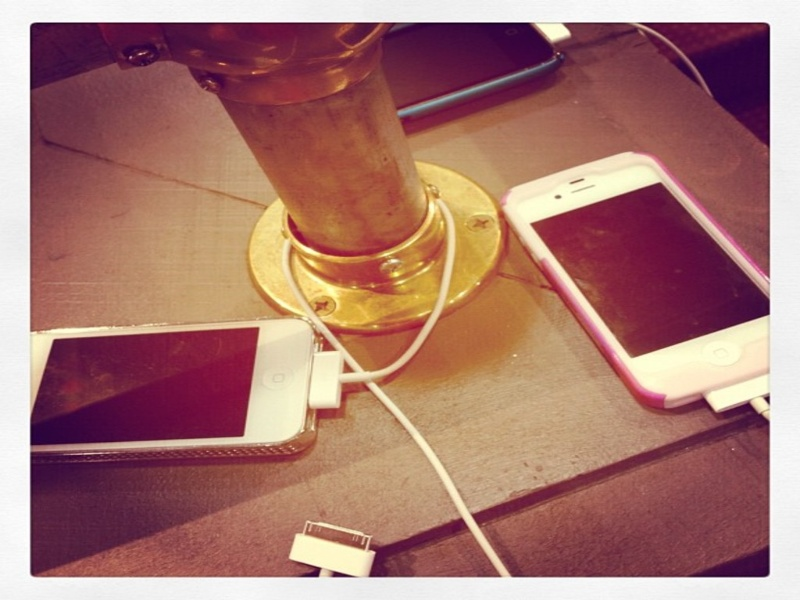Mobile Phone: (485, 142, 781, 424), (14, 306, 352, 466)
